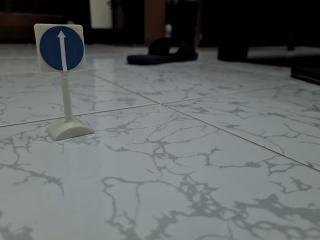straight: (37, 25, 86, 73)
